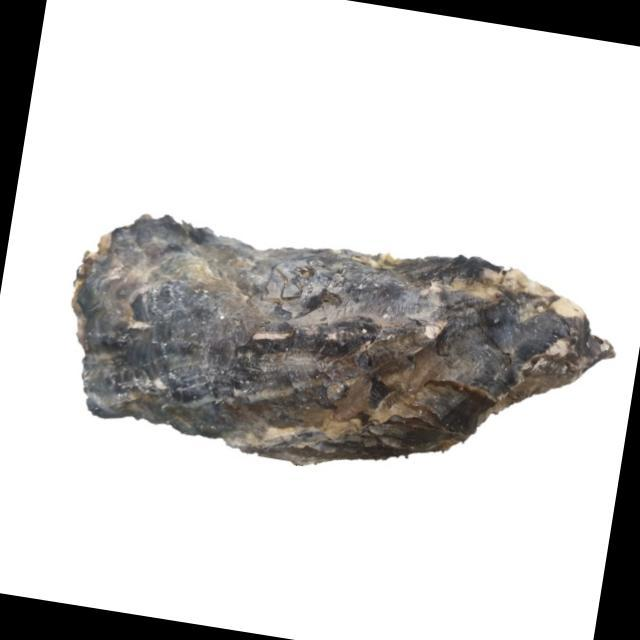Oyster- Indeterminate: (70, 216, 616, 469)
